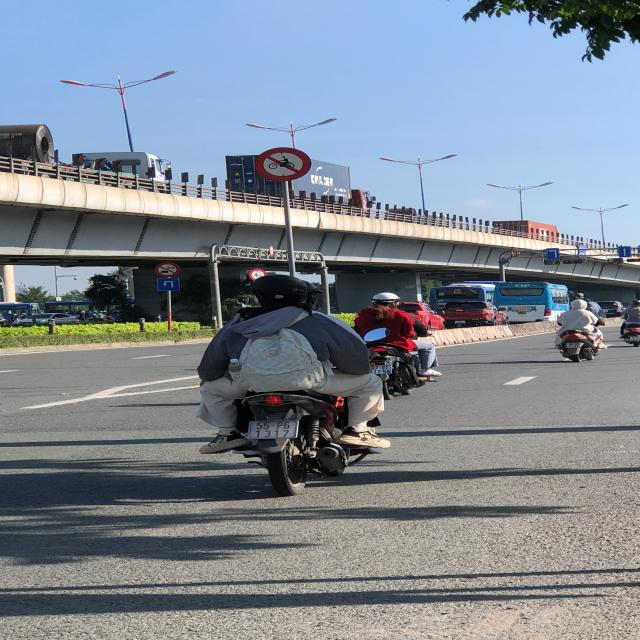Bien bao cam xe may: (253, 145, 318, 185)
